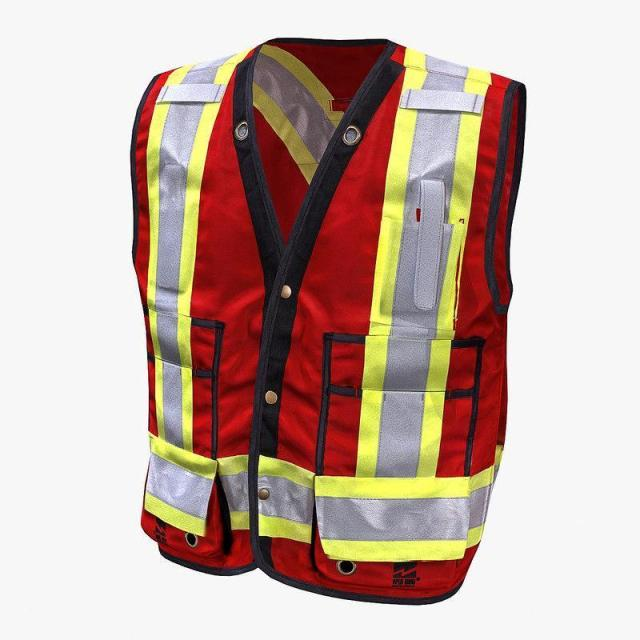Vest: (127, 27, 527, 605)
